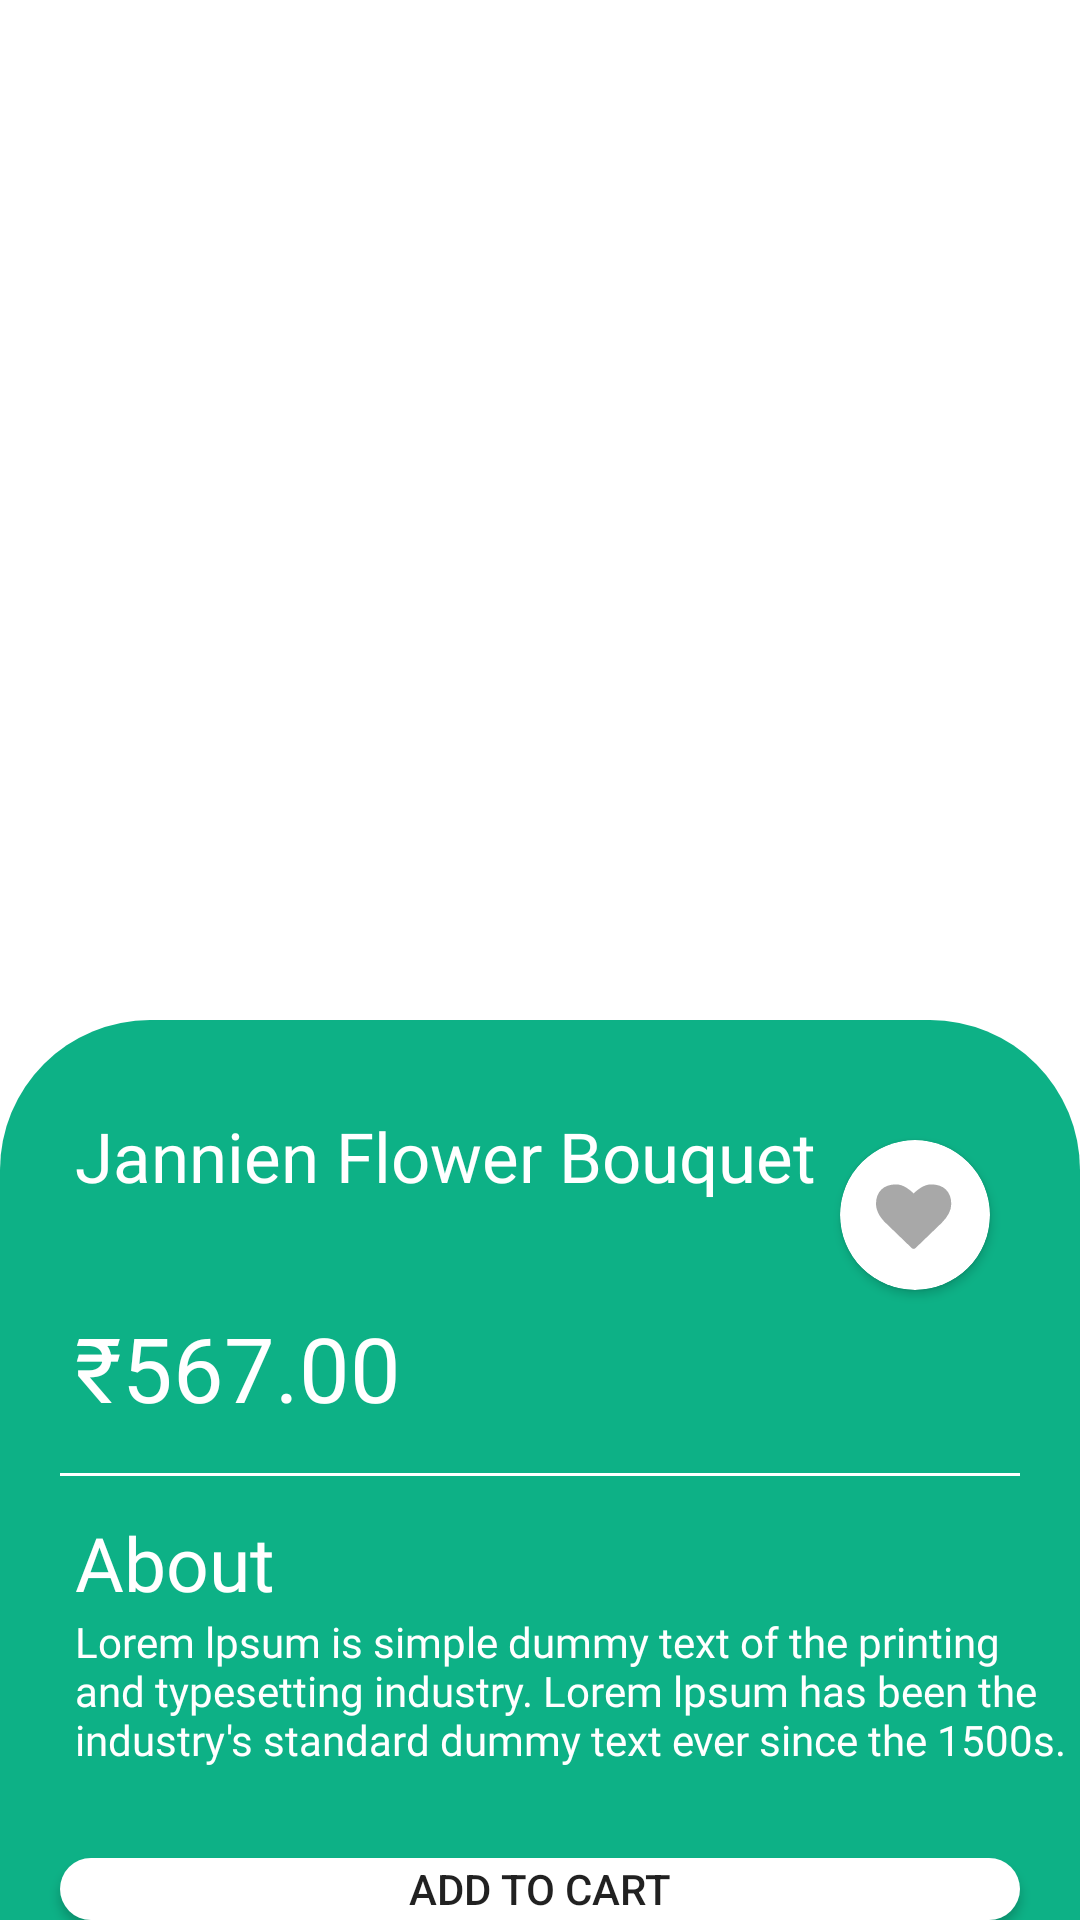

Icon click points for this 1080 × 1920 phone screenshot, format (x,y):
heart: (913,1216)
